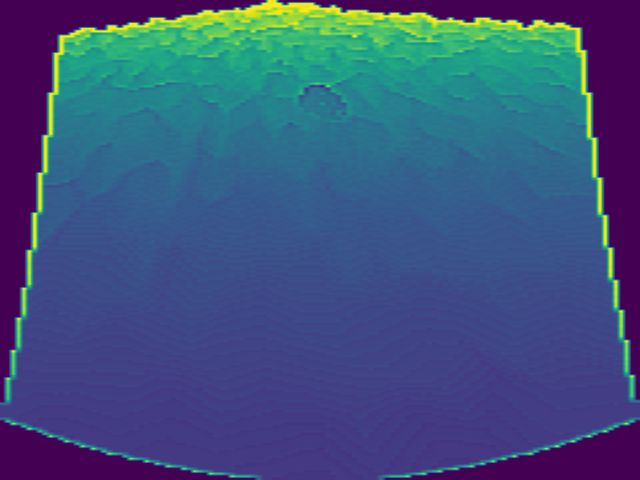car_0198: (300, 84, 348, 119)
